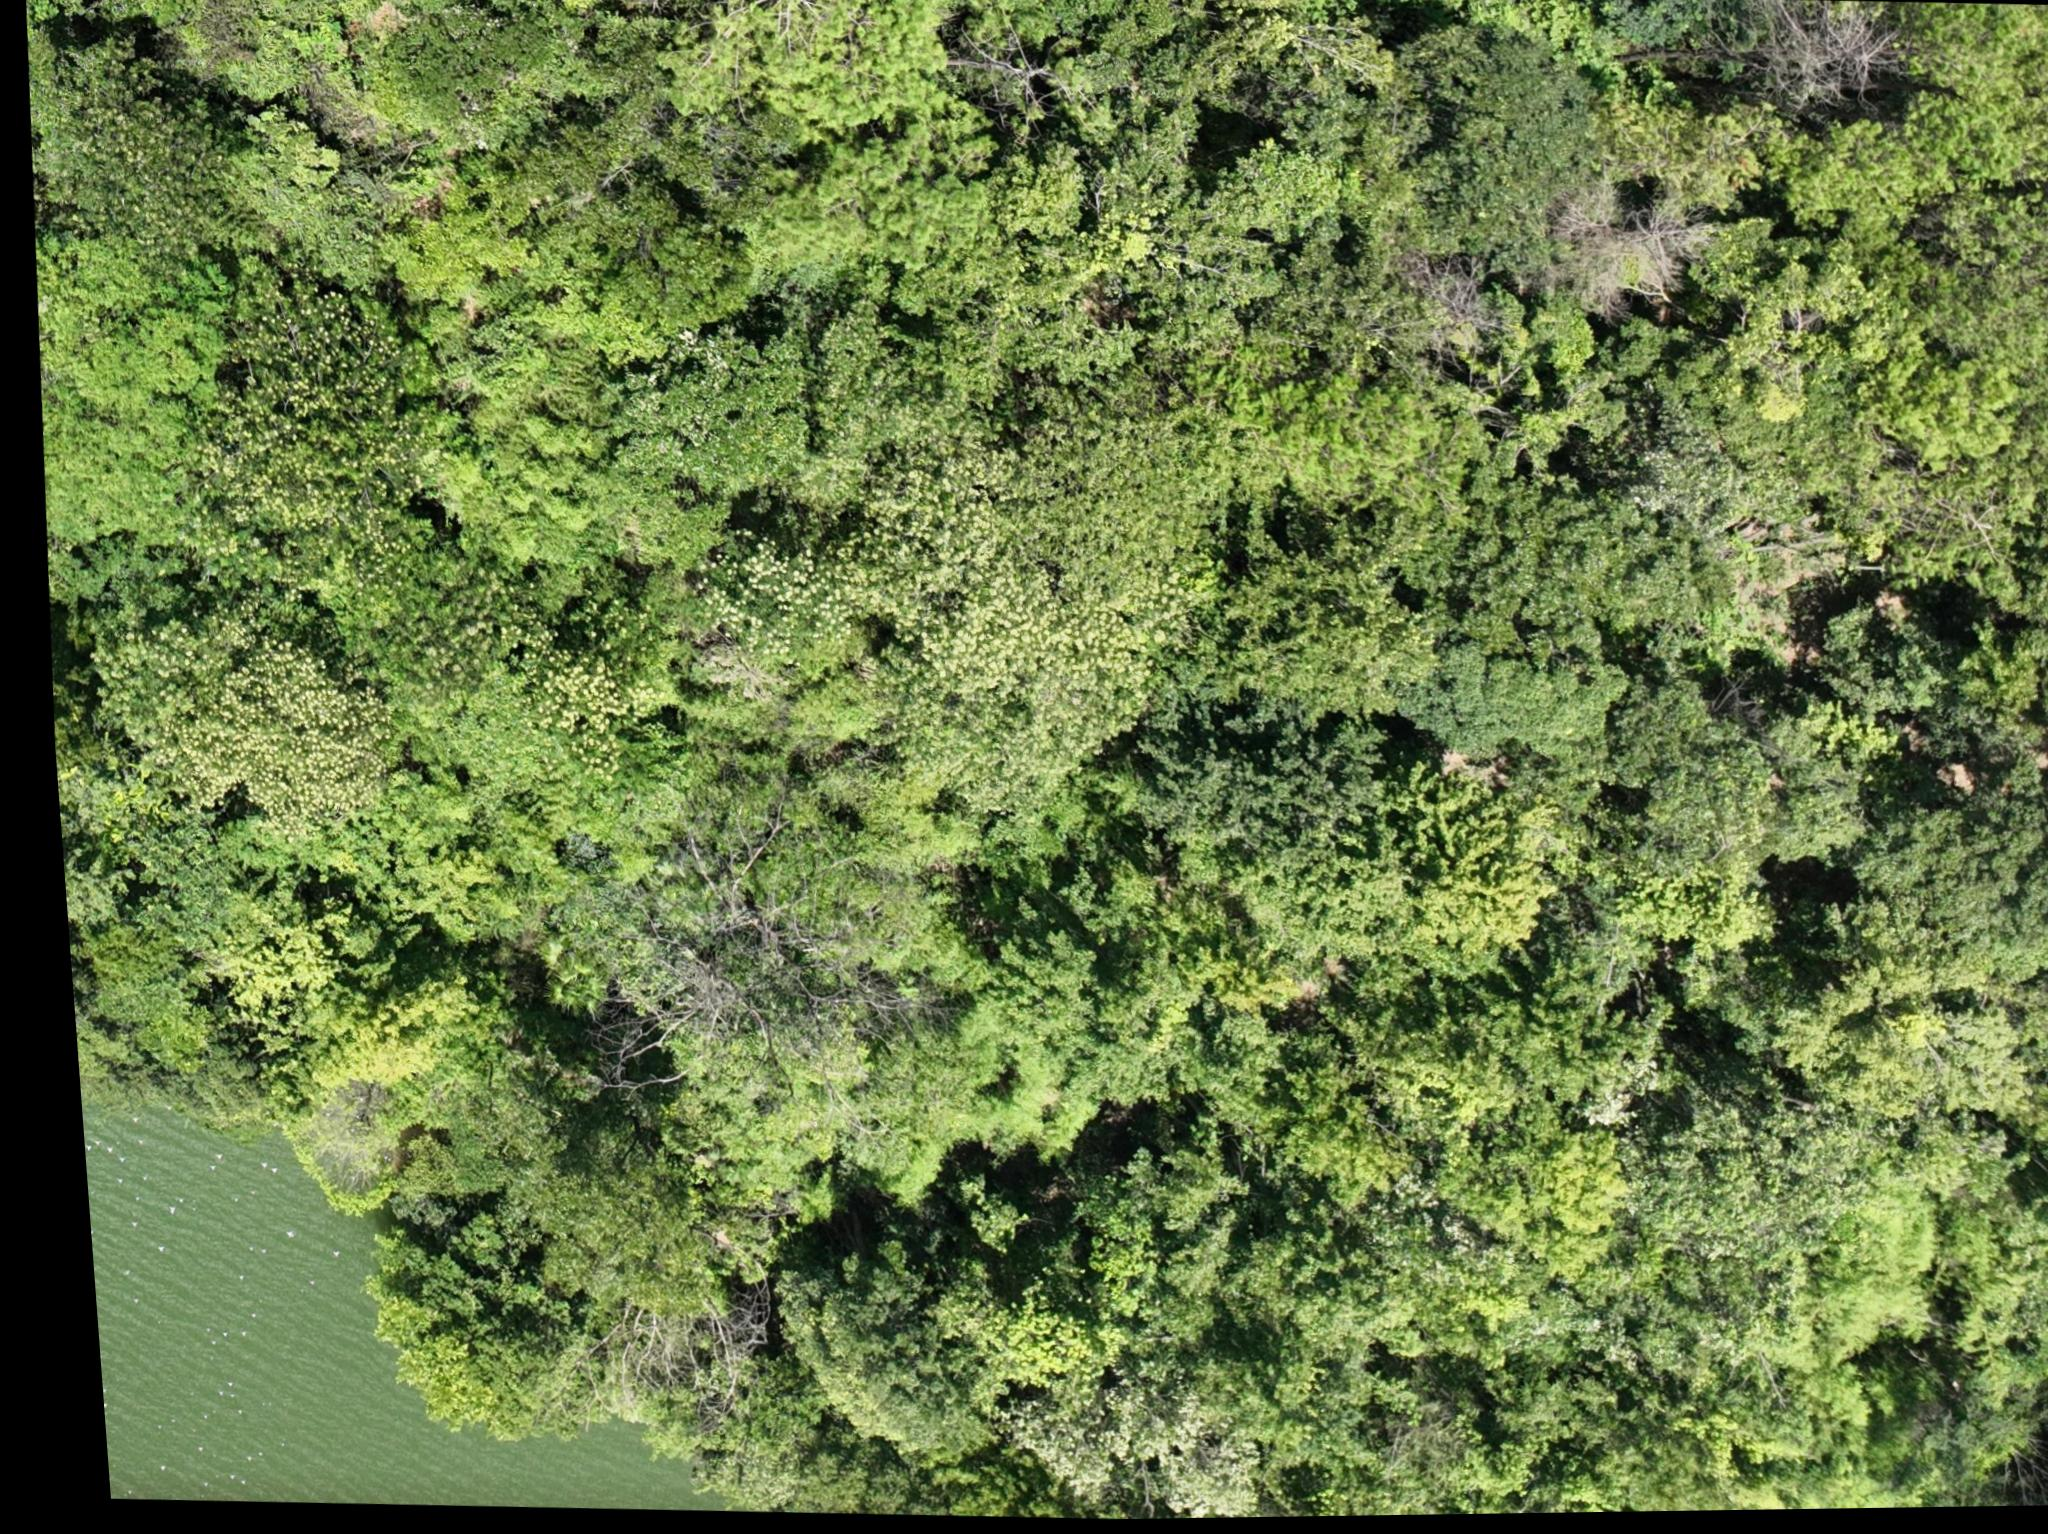dead: (1547, 195, 1706, 317), (1740, 11, 1897, 121)
